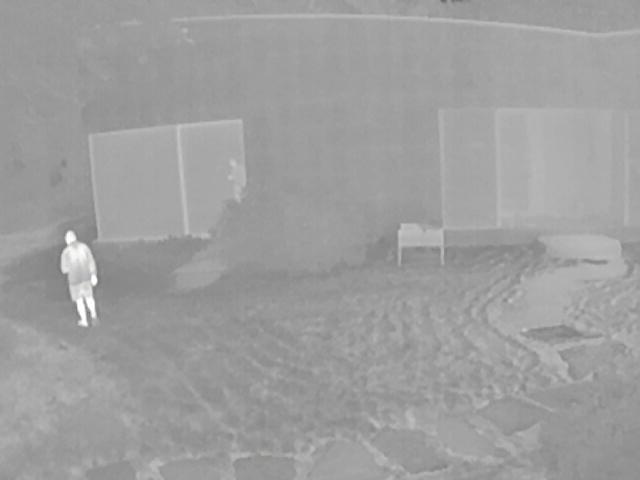person: (62, 231, 98, 327), (222, 152, 243, 199)
